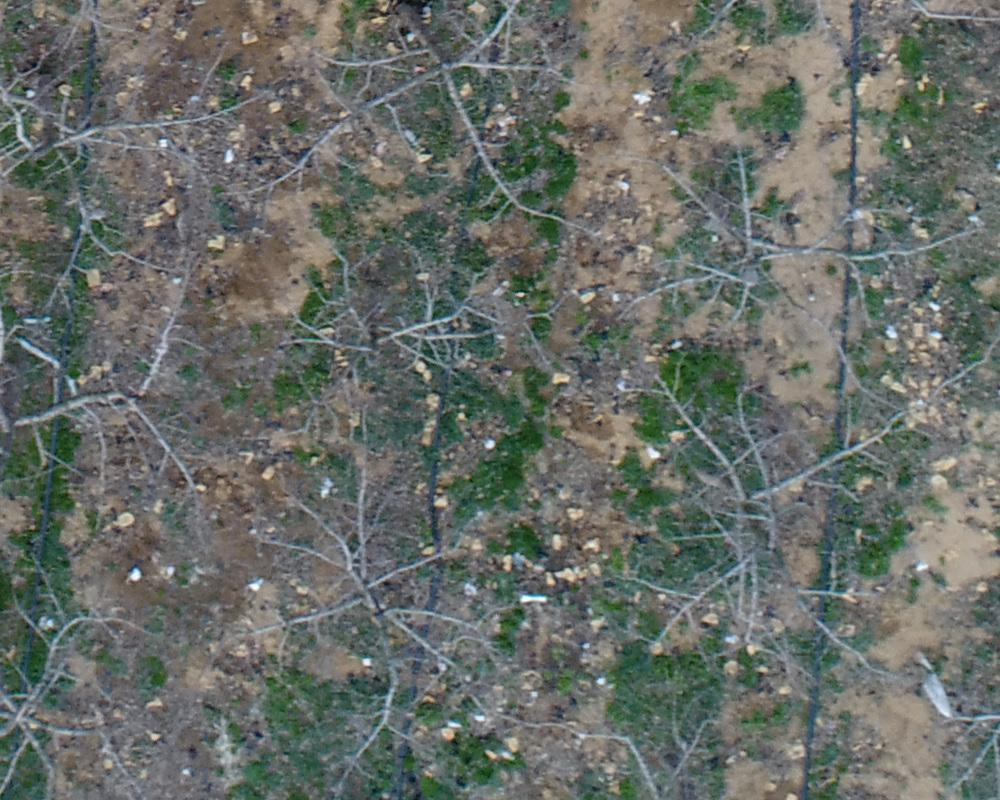apple: (592, 344, 990, 692), (10, 205, 223, 640), (600, 130, 990, 341), (242, 465, 504, 779), (262, 10, 606, 245), (250, 245, 541, 457), (10, 38, 260, 240)
